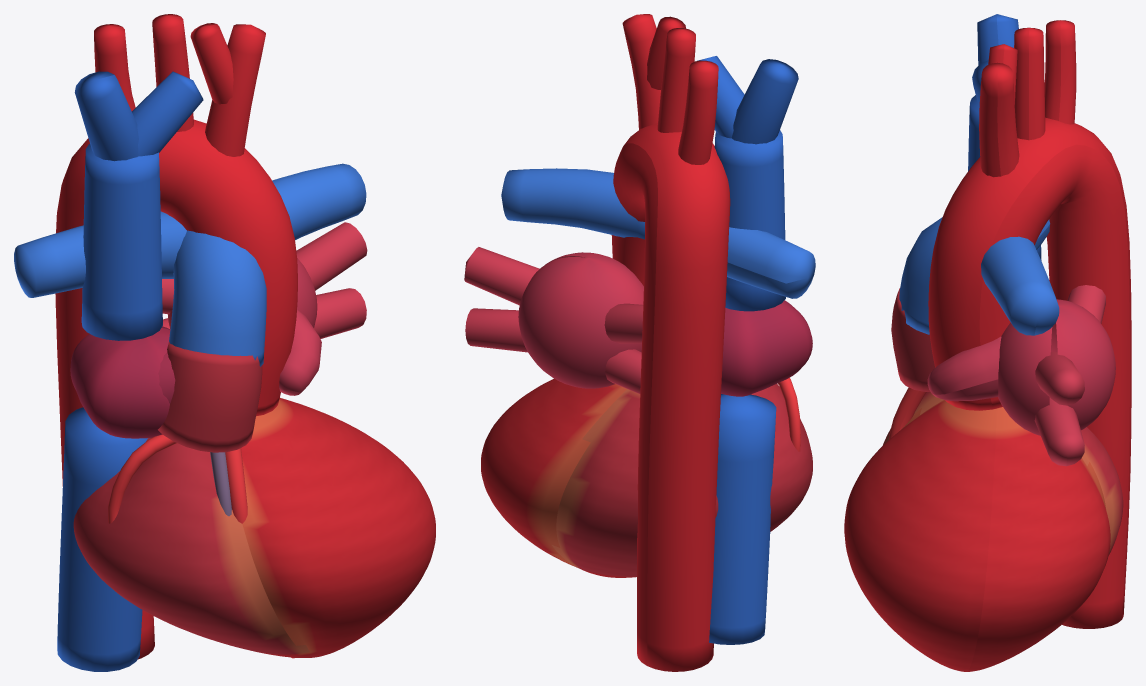
The model's file is 05_human_heart_chambers.glb.
The picture shows the model from 3 angles, left to right: view 1: azimuth 30°, elevation 25°; view 2: azimuth 150°, elevation 25°; view 3: azimuth 270°, elevation 25°; orthographic projection. The views are drawn at different scales.
Visible parts, largest first — view 1: Pulmonary Trunk, Arteries & Vena Cavae, Left Ventricle & Cardiac Apex, Right Ventricle & Conus Arteriosus, Ascending Aorta, Arch & 3 Great Arteries, Right Atrium & Right Auricle, Left Atrium, Auricle & 4 Pulmonary Veins, Coronary Arteries & Great Cardiac Vein; view 2: Ascending Aorta, Arch & 3 Great Arteries, Pulmonary Trunk, Arteries & Vena Cavae, Left Atrium, Auricle & 4 Pulmonary Veins, Right Ventricle & Conus Arteriosus, Left Ventricle & Cardiac Apex, Right Atrium & Right Auricle, Coronary Arteries & Great Cardiac Vein; view 3: Left Ventricle & Cardiac Apex, Ascending Aorta, Arch & 3 Great Arteries, Left Atrium, Auricle & 4 Pulmonary Veins, Pulmonary Trunk, Arteries & Vena Cavae, Right Ventricle & Conus Arteriosus, Coronary Arteries & Great Cardiac Vein.
Boxes of the visible parts, x1,y1,x2,y2 form: Pulmonary Trunk, Arteries & Vena Cavae: [14, 71, 366, 671]; Left Ventricle & Cardiac Apex: [241, 398, 435, 657]; Right Ventricle & Conus Arteriosus: [73, 342, 309, 654]; Ascending Aorta, Arch & 3 Great Arteries: [55, 14, 297, 659]; Right Atrium & Right Auricle: [70, 326, 175, 438]; Left Atrium, Auricle & 4 Pulmonary Veins: [162, 222, 367, 395]; Coronary Arteries & Great Cardiac Vein: [108, 434, 294, 658]; Ascending Aorta, Arch & 3 Great Arteries: [611, 14, 730, 671]; Pulmonary Trunk, Arteries & Vena Cavae: [501, 56, 815, 644]; Left Atrium, Auricle & 4 Pulmonary Veins: [464, 247, 643, 393]; Right Ventricle & Conus Arteriosus: [552, 384, 812, 576]; Left Ventricle & Cardiac Apex: [481, 378, 636, 577]; Right Atrium & Right Auricle: [721, 300, 812, 396]; Coronary Arteries & Great Cardiac Vein: [778, 378, 800, 451]; Left Ventricle & Cardiac Apex: [844, 400, 1110, 671]; Ascending Aorta, Arch & 3 Great Arteries: [928, 20, 1131, 628]; Left Atrium, Auricle & 4 Pulmonary Veins: [927, 285, 1115, 466]; Pulmonary Trunk, Arteries & Vena Cavae: [899, 14, 1059, 335]; Right Ventricle & Conus Arteriosus: [883, 288, 1123, 555]; Coronary Arteries & Great Cardiac Vein: [889, 387, 926, 439].
Size of the model in its own units: 125 by 214 by 91.51.
